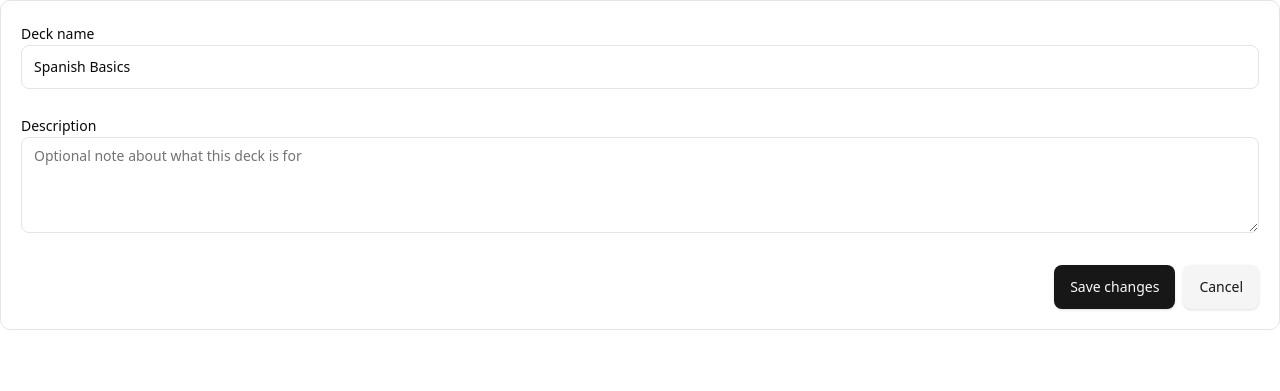
it: DeckForm dirty-form behavior › shows an inline error when an edit save fails
Click the button "Save changes" at x=1115, y=287, box 1054,265 -> 1175,309
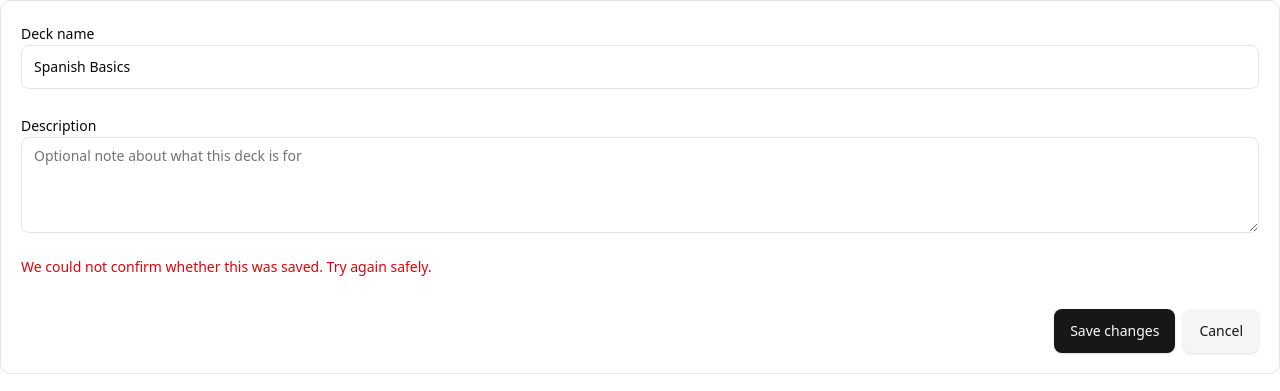
Now the message reads "We could not confirm whether this was saved. Try again safely.", box 21,257 -> 432,276
